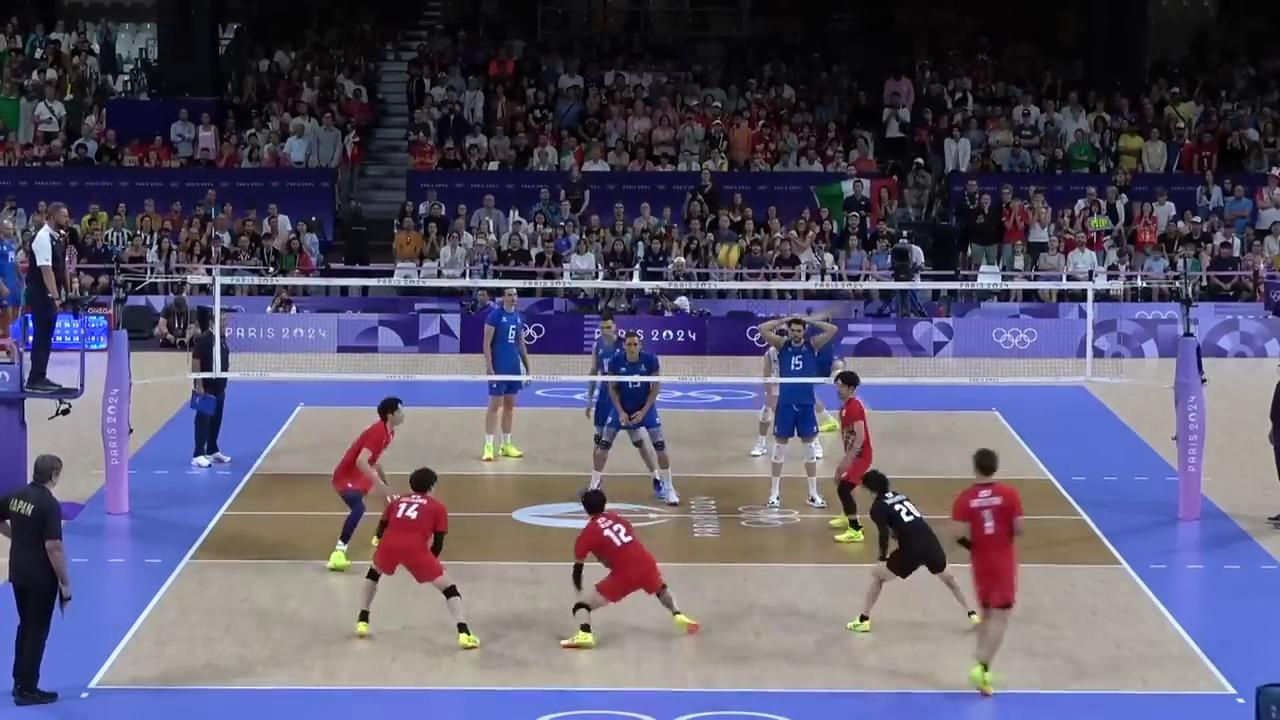ball: (716, 242, 739, 269)
